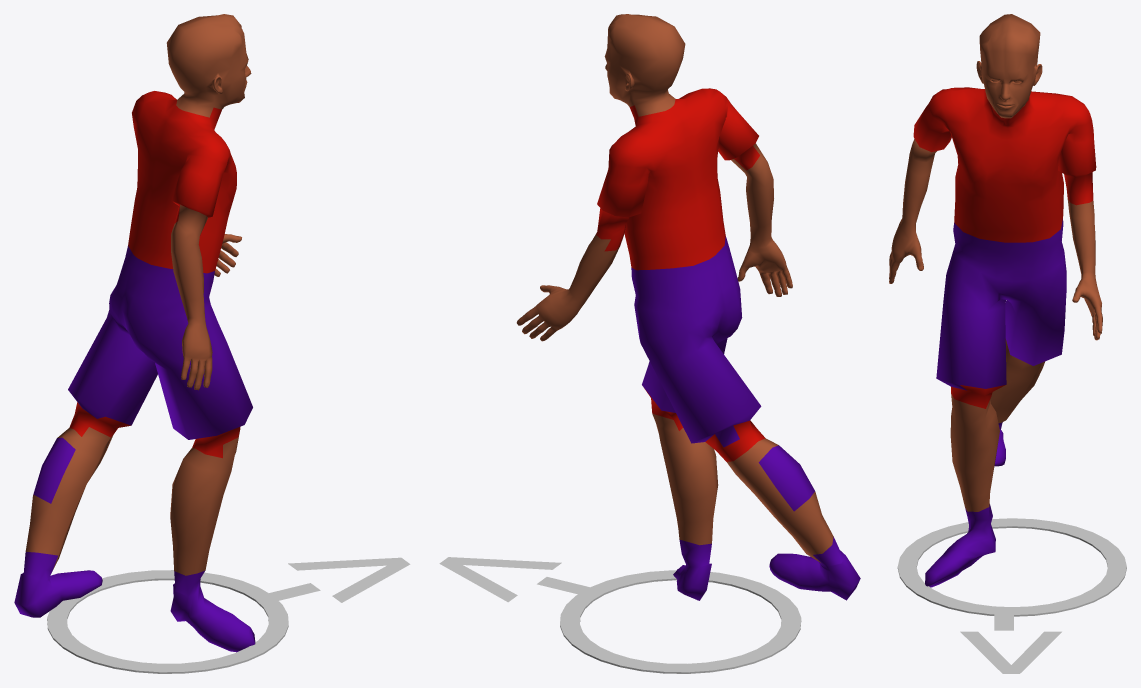
The model's file is player_000019.obj.
3 renders of one model, left to right at view 1: azimuth 30°, elevation 25°; view 2: azimuth 150°, elevation 25°; view 3: azimuth 270°, elevation 25°, orthographic. The views are drawn at different scales.
Visible parts, largest first — view 1: soccerplayer.002_mesh.003, Circle, Text.001_Mesh.001; view 2: soccerplayer.002_mesh.003, Circle, Text.001_Mesh.001; view 3: soccerplayer.002_mesh.003, Circle, Text.001_Mesh.001.
Boxes of the visible parts, left/top/right/bottom form: soccerplayer.002_mesh.003: left=14, top=14, right=255, bottom=652; Circle: left=47, top=570, right=288, bottom=673; Text.001_Mesh.001: left=264, top=557, right=410, bottom=602; soccerplayer.002_mesh.003: left=516, top=14, right=860, bottom=600; Circle: left=560, top=570, right=801, bottom=673; Text.001_Mesh.001: left=439, top=557, right=593, bottom=602; soccerplayer.002_mesh.003: left=889, top=14, right=1102, bottom=587; Circle: left=897, top=518, right=1126, bottom=616; Text.001_Mesh.001: left=960, top=609, right=1061, bottom=673.
Size of the model in its own units: 2.08 by 2.98 by 1.13.
